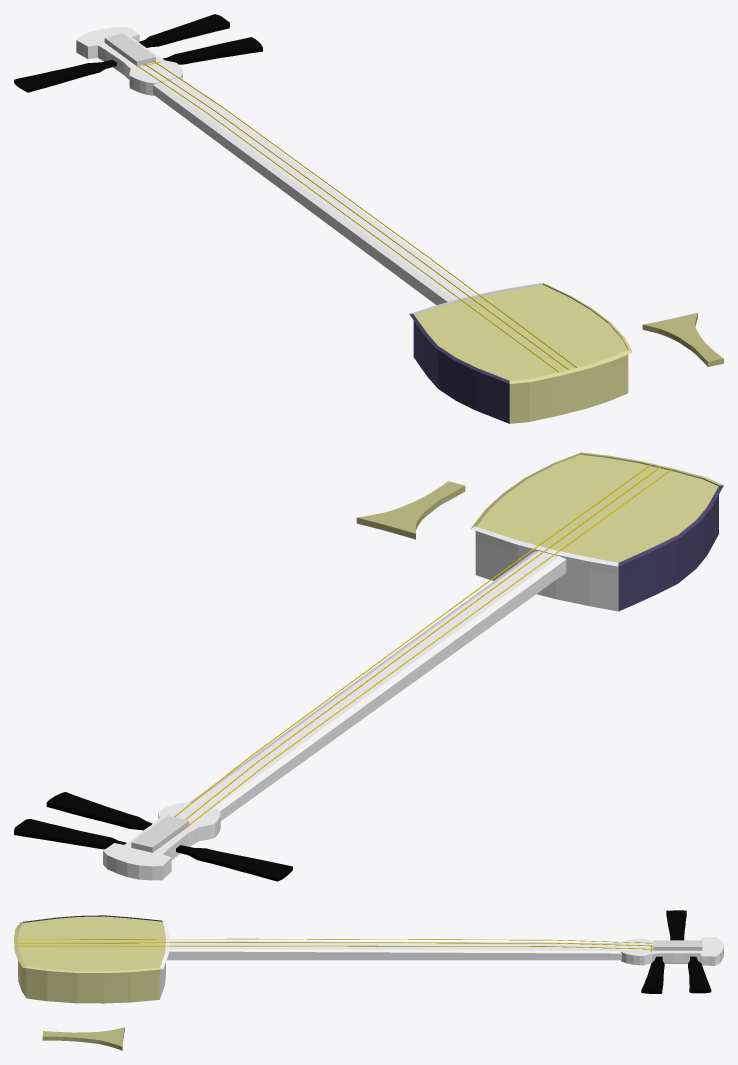
File: shamisen.glb
3 renders of one model, top to bottom at view 1: azimuth 30°, elevation 25°; view 2: azimuth 150°, elevation 25°; view 3: azimuth 270°, elevation 25°, orthographic. The views are drawn at different scales.
Visible parts, largest first — view 1: maiko, Long manche, maiko left, le bout, NurbsPath, Plane, ajustement, ajustement 2, ajustement 2.001, trou; view 2: maiko, Long manche, maiko devant, maiko left, le bout, NurbsPath, Plane, ajustement, ajustement 2, ajustement 2.001, trou; view 3: maiko, Long manche, NurbsPath, le bout, Plane, ajustement 2.001, ajustement 2, trou, ajustement, maiko devant, maiko left.
Part boxes in pixels (x1,y1,x2,y2): maiko: (414,283,632,423); Long manche: (153,78,475,305); maiko left: (409,313,509,423); le bout: (76,27,182,95); NurbsPath: (131,61,576,372); Plane: (642,312,723,366); ajustement: (14,59,116,92); ajustement 2: (162,37,262,64); ajustement 2.001: (139,14,229,47); trou: (104,33,155,65); maiko: (471,452,722,562); Long manche: (190,551,566,820); maiko devant: (471,526,618,611); maiko left: (618,485,723,611); le bout: (103,802,220,880); NurbsPath: (174,465,671,830); Plane: (356,481,465,539); ajustement: (176,845,292,881); ajustement 2: (46,792,152,830); ajustement 2.001: (14,819,126,849); trou: (131,815,189,852); maiko: (14,916,165,1003); Long manche: (167,941,621,960); NurbsPath: (18,938,652,949); le bout: (621,937,723,965); Plane: (42,1027,124,1050); ajustement 2.001: (688,956,711,993); ajustement 2: (641,956,664,993); trou: (653,940,702,963); ajustement: (666,910,686,940); maiko devant: (159,920,169,999); maiko left: (23,915,162,922).
Size of the model in its own units: 7.29 by 1.09 by 19.43.
